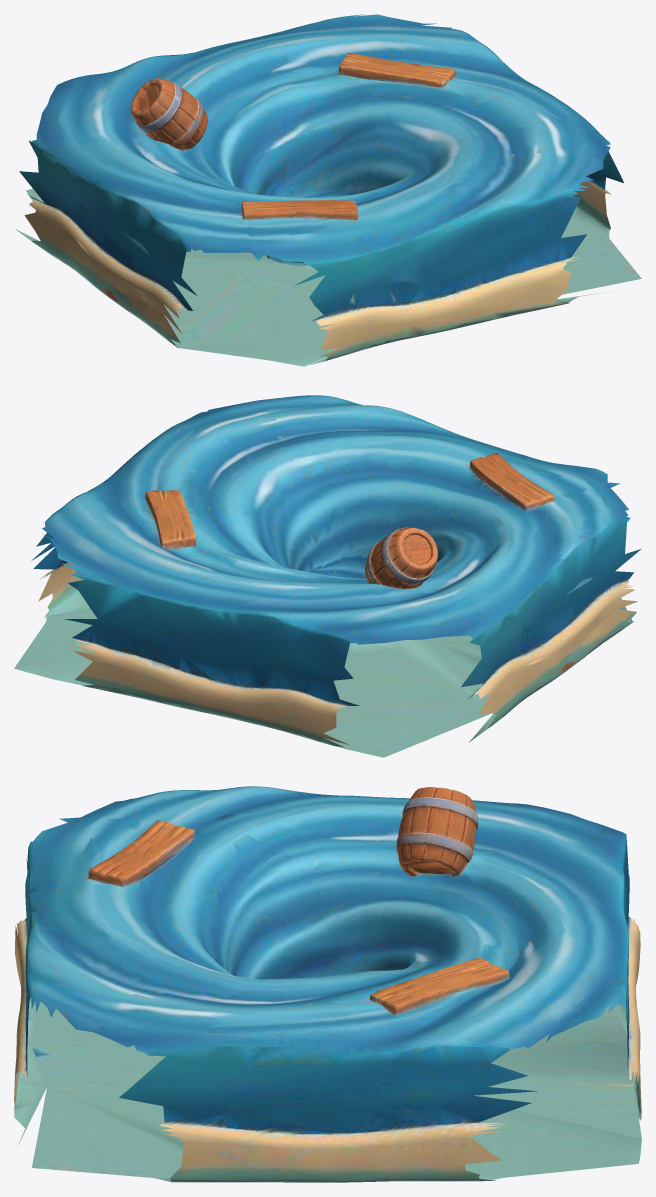
File: m_whirlpool_animated.glb
The picture shows the model from 3 angles, top to bottom: view 1: azimuth 30°, elevation 25°; view 2: azimuth 150°, elevation 25°; view 3: azimuth 270°, elevation 25°; orthographic projection. The views are drawn at different scales.
Visible parts, largest first — view 1: m_whirlpool_Living_Scenery; view 2: m_whirlpool_Living_Scenery; view 3: m_whirlpool_Living_Scenery.
Boxes of the visible parts, box(x1,y1,x2,y2) form: m_whirlpool_Living_Scenery: box(15, 14, 641, 366); m_whirlpool_Living_Scenery: box(14, 395, 640, 757); m_whirlpool_Living_Scenery: box(14, 786, 641, 1182).
Bounding box in the file's own units: 0.8096 × 0.2655 × 0.7955.
Materials: 1 (1 with a texture image).
